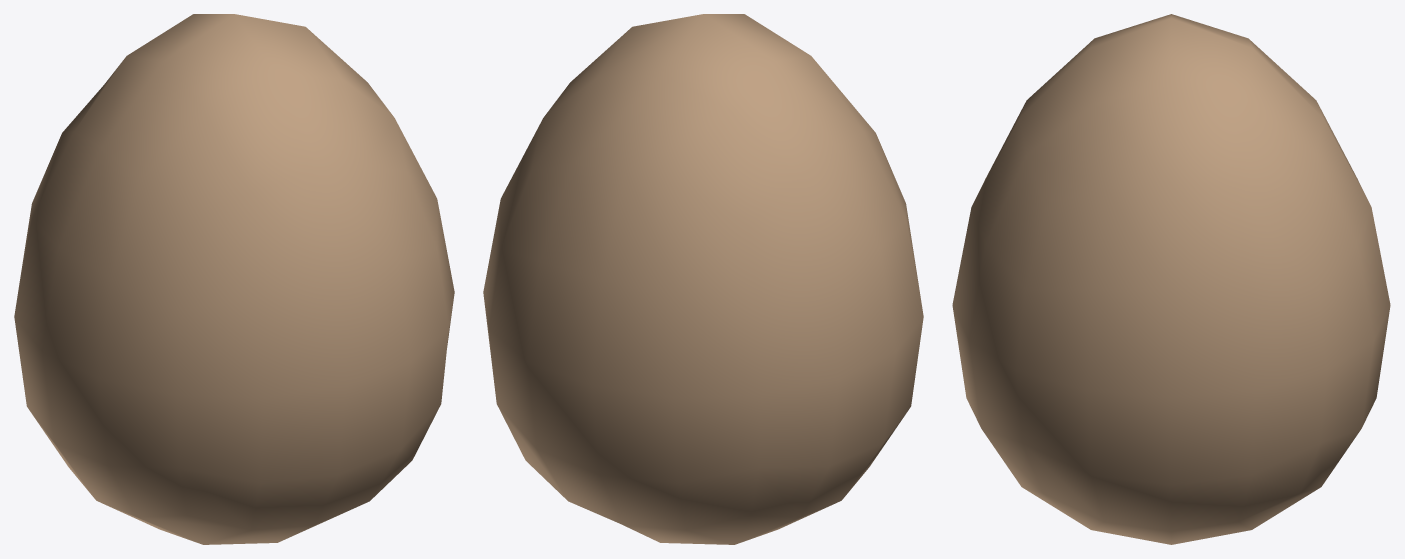
The model's file is New_egg_whole.fbx.
3 views of the same model, side by side, from view 1: azimuth 30°, elevation 25°; view 2: azimuth 150°, elevation 25°; view 3: azimuth 270°, elevation 25° (orthographic).
Parts seen in each view (by area): view 1: Egg_whole; view 2: Egg_whole; view 3: Egg_whole.
Part boxes in pixels (x1=…): Egg_whole: x1=14, y1=14, x2=454, y2=544; Egg_whole: x1=483, y1=14, x2=923, y2=544; Egg_whole: x1=952, y1=14, x2=1390, y2=544.
Size of the model in its own units: 655 by 834 by 655.
